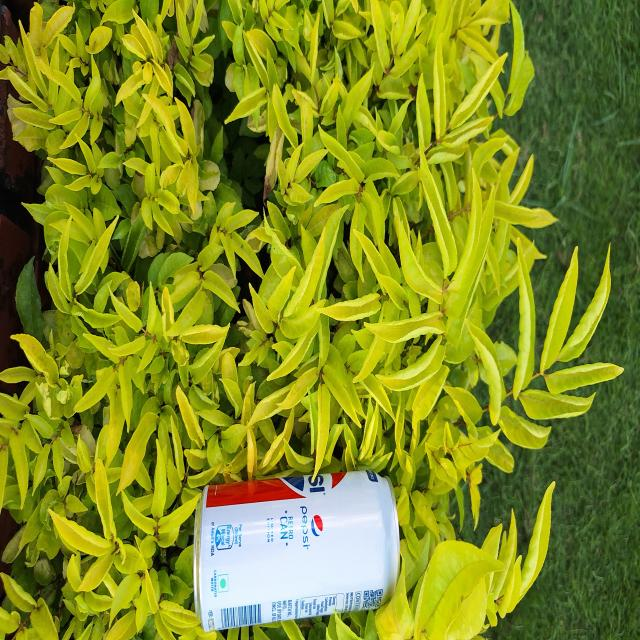Pepsi Retro: (195, 471, 402, 617)
